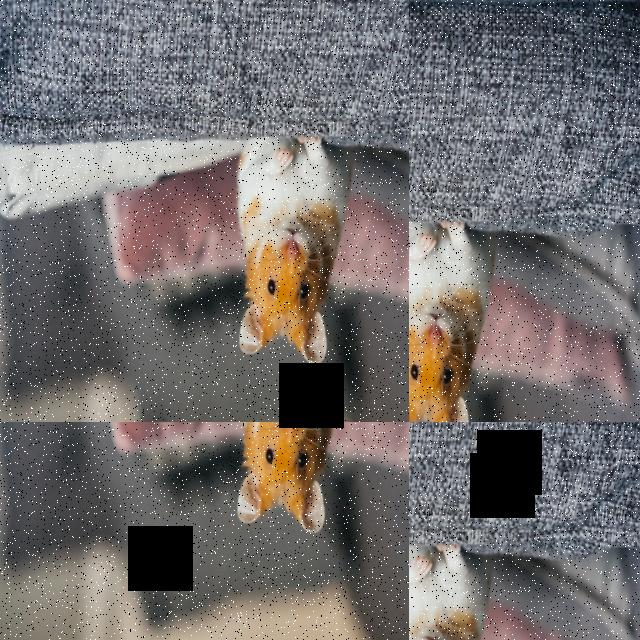hamster: (409, 163, 474, 422), (69, 422, 221, 498), (409, 544, 492, 640)
